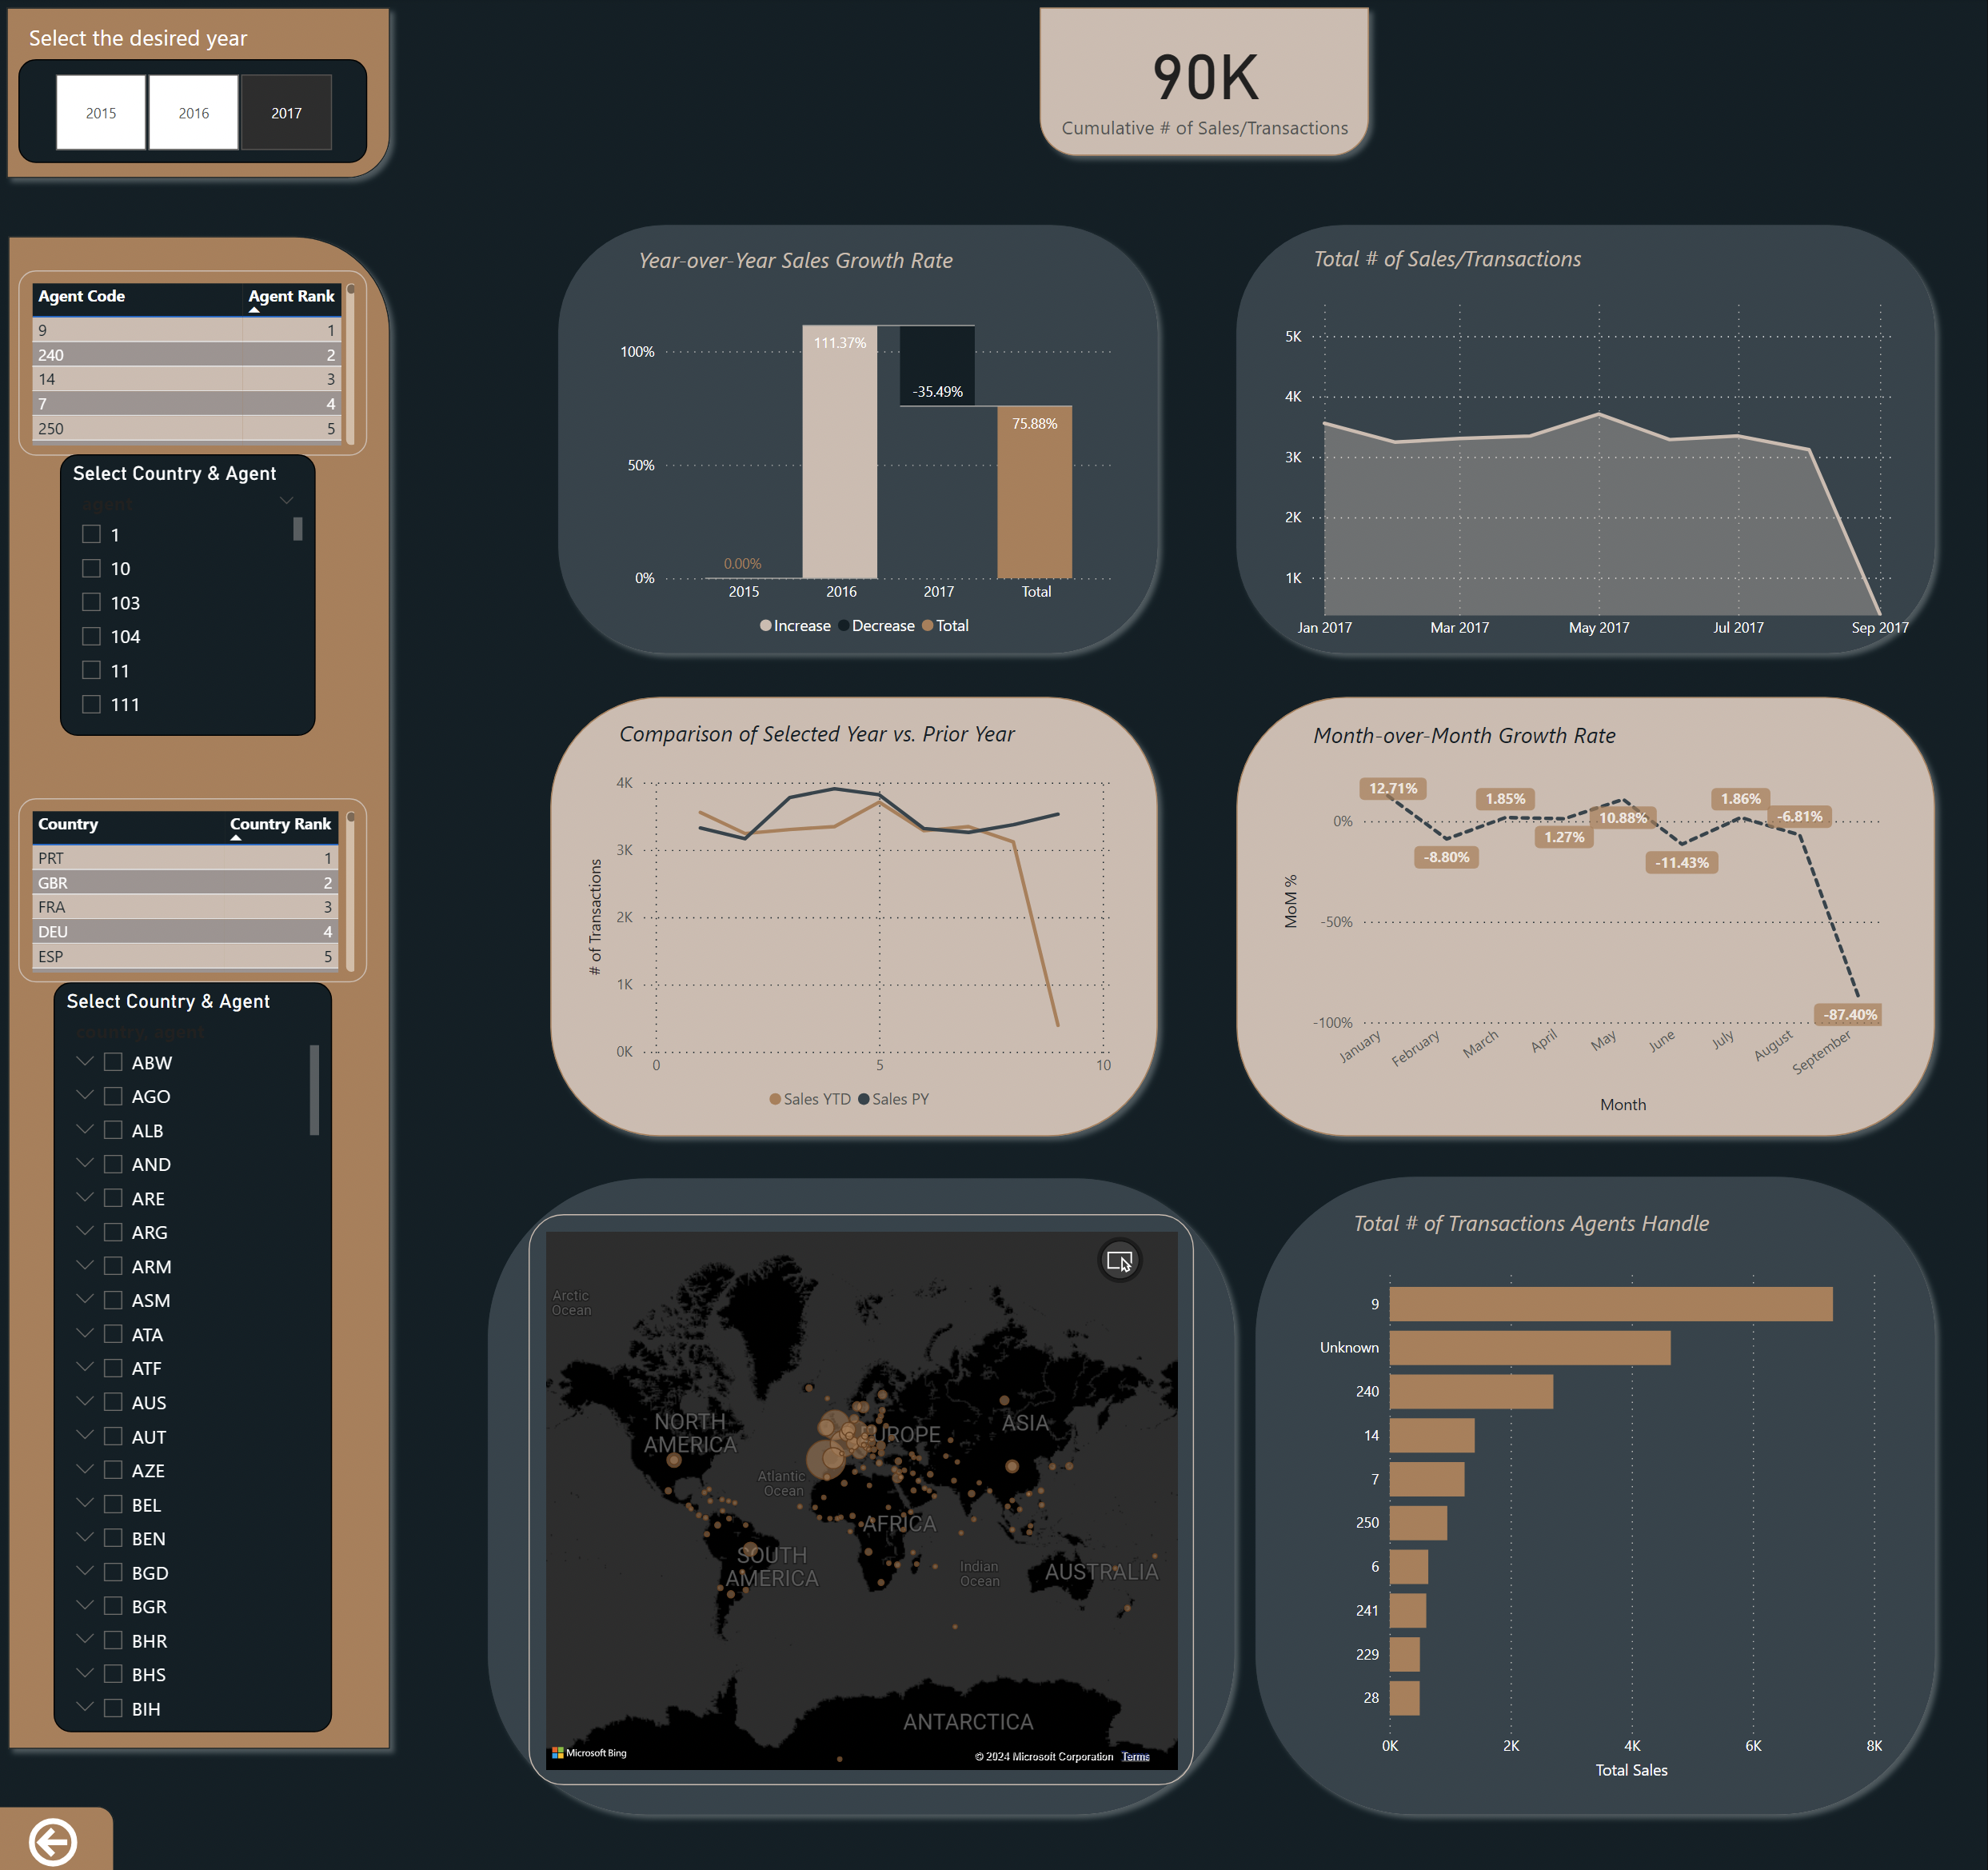

What the dashboard file says about the page in this screenshot:
{"tool":"powerbi","page":{"name":"2nd Page - Ancillary Features","canvas":[1700,1600],"ordinal":1},"visuals":[{"type":"shape","box":[881.2,0,298.7,144.6],"z":0},{"type":"shape","box":[0,0,345.1,163.7],"z":1000},{"type":"shape","box":[1065.3,997.1,597.4,562],"z":2000},{"type":"shape","box":[410.6,998.5,654.7,560.6],"z":3000},{"type":"shape","box":[463.8,587.9,536.1,392.8],"z":4000},{"type":"shape","box":[1048.9,185.5,613.8,383.3],"z":5000},{"type":"shape","box":[470.6,185.5,529.2,383.3],"z":6000},{"type":"shape","box":[1.4,195.1,343.7,1308.1],"z":7000},{"type":"map","fields":{"Size":["DAX Measures.Total Sales"],"Category":["HotelBookings.country"],"Y":["Min(HotelBookings.country)"]},"box":[454.2,1038,567.4,487],"z":8000},{"type":"clusteredBarChart","fields":{"Category":["HotelBookings.agent"],"Y":["DAX Measures.Total Sales"]},"box":[1118.5,1072.1,495.1,452.9],"z":9000},{"type":"areaChart","fields":{"Y":["DAX Measures.Sales YTD"],"Category":["Calendar.Date.Variation.Date Hierarchy.Year","Calendar.Date.Variation.Date Hierarchy.Month"]},"box":[1093.9,249.6,542.9,306.9],"z":10000},{"type":"card","fields":{"Values":["DAX Measures.Cumulative Sum"]},"box":[898.9,9.5,264.6,125.5],"z":11000},{"type":"slicer","title":"Select Country & Agent","fields":{"Values":["HotelBookings.country","HotelBookings.agent"]},"box":[49.1,840.2,237.3,639.7],"z":12000},{"type":"tableEx","fields":{"Values":["HotelBookings.country","DAX Measures.Country Rank"]},"box":[19.1,683.4,297.4,156.9],"z":13000},{"type":"lineChart","fields":{"Category":["Calendar.Month Number"],"Y":["DAX Measures.Sales YTD","DAX Measures.Sales PY"]},"box":[500.6,656.1,458.3,302.8],"z":14000},{"type":"slicer","fields":{"Values":["Calendar.Year"]},"box":[19.1,53.2,297.4,88.7],"z":15000},{"type":"textbox","box":[23.2,16.4,313.7,45],"z":16000},{"type":"tableEx","fields":{"Values":["HotelBookings.agent","DAX Measures.Agent Rank"]},"box":[19.1,233.2,297.4,158.2],"z":17000},{"type":"slicer","title":"Select Country & Agent","fields":{"Values":["HotelBookings.agent"]},"box":[54.6,390.1,218.2,240.1],"z":18000},{"type":"textbox","box":[542.9,206,406.5,45],"z":19000},{"type":"textbox","box":[1118.5,204.6,406.5,45],"z":20000},{"type":"shape","box":[0,1542.7,100.9,58.7],"z":21000},{"type":"actionButton","box":[23.2,1548.2,58,51],"z":22000},{"type":"textbox","box":[1152.6,1027.1,406.5,45],"z":23000},{"type":"waterfallChart","fields":{"Y":["DAX Measures.YoY %"],"Category":["Calendar.Year"]},"box":[526.5,249.6,432.4,305.5],"z":24000},{"type":"shape","box":[1048.9,587.9,613.8,392.8],"z":25000},{"type":"lineChart","fields":{"Y":["DAX Measures.MoM %"],"Category":["Calendar.Date.Variation.Date Hierarchy.Month"]},"box":[1093.9,654.7,519.7,302.8],"z":26000},{"type":"textbox","box":[1118.5,611.1,406.5,45],"z":27000},{"type":"textbox","box":[526.5,609.7,406.5,45],"z":28000}]}

Visuals, with their boxes in screenshot pixels (x1, y1, x2, y2), scaled from the page's 1700x1600 canvas onto the 1988x1870 screenshot:
shape: detection(1031, 0, 1379, 169)
shape: detection(0, 0, 404, 191)
shape: detection(1246, 1165, 1944, 1822)
shape: detection(480, 1167, 1246, 1822)
shape: detection(542, 687, 1169, 1146)
shape: detection(1227, 217, 1944, 665)
shape: detection(550, 217, 1169, 665)
shape: detection(2, 228, 404, 1757)
map - DAX Measures.Total Sales x HotelBookings.country: detection(531, 1213, 1195, 1782)
clusteredBarChart - HotelBookings.agent x DAX Measures.Total Sales: detection(1308, 1253, 1887, 1782)
areaChart - DAX Measures.Sales YTD x Calendar.Date.Variation.Date Hierarchy.Year: detection(1279, 292, 1914, 650)
card - DAX Measures.Cumulative Sum: detection(1052, 11, 1360, 158)
"Select Country & Agent" slicer: detection(58, 982, 335, 1730)
tableEx - HotelBookings.country x DAX Measures.Country Rank: detection(22, 799, 370, 982)
lineChart - Calendar.Month Number x DAX Measures.Sales YTD: detection(585, 767, 1121, 1121)
slicer - Calendar.Year: detection(22, 62, 370, 166)
textbox: detection(27, 19, 394, 72)
tableEx - HotelBookings.agent x DAX Measures.Agent Rank: detection(22, 273, 370, 458)
"Select Country & Agent" slicer: detection(64, 456, 319, 737)
textbox: detection(635, 241, 1110, 294)
textbox: detection(1308, 239, 1783, 292)
shape: detection(0, 1803, 118, 1869)
actionButton: detection(27, 1809, 95, 1869)
textbox: detection(1348, 1201, 1823, 1253)
waterfallChart - DAX Measures.YoY % x Calendar.Year: detection(616, 292, 1121, 649)
shape: detection(1227, 687, 1944, 1146)
lineChart - DAX Measures.MoM % x Calendar.Date.Variation.Date Hierarchy.Month: detection(1279, 765, 1887, 1119)
textbox: detection(1308, 714, 1783, 767)
textbox: detection(616, 713, 1091, 765)
